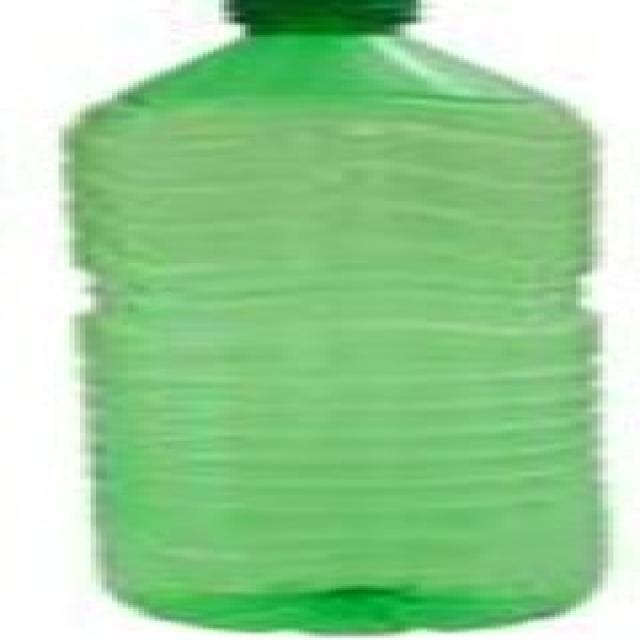general: (59, 0, 608, 634)
